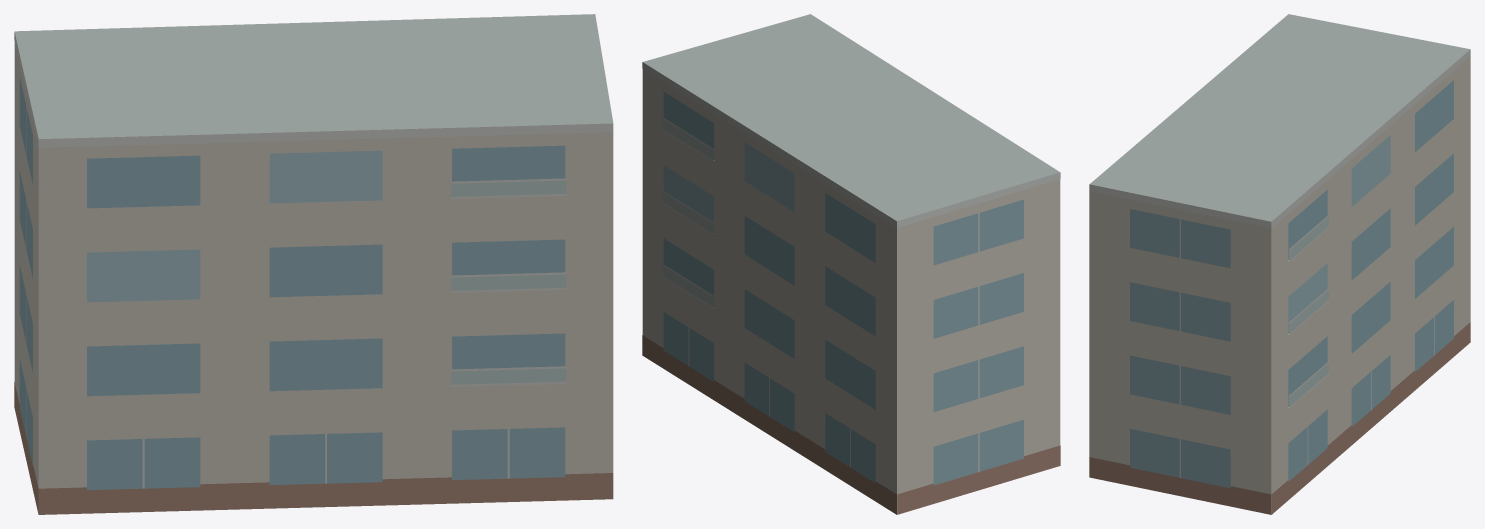
File: survey-upis-32881816.glb
3 views of the same model, side by side, from view 1: azimuth 30°, elevation 25°; view 2: azimuth 150°, elevation 25°; view 3: azimuth 270°, elevation 25° (orthographic). The views are drawn at different scales.
Visible parts, largest first — view 1: survey-upis-32881816.tmp; view 2: survey-upis-32881816.tmp; view 3: survey-upis-32881816.tmp.
Boxes of the visible parts, left/top/right/bottom form: survey-upis-32881816.tmp: left=14, top=14, right=613, bottom=514; survey-upis-32881816.tmp: left=642, top=14, right=1060, bottom=514; survey-upis-32881816.tmp: left=1089, top=14, right=1470, bottom=514.
Bounding box in the file's own units: 16.12 × 10.6 × 12.5.
